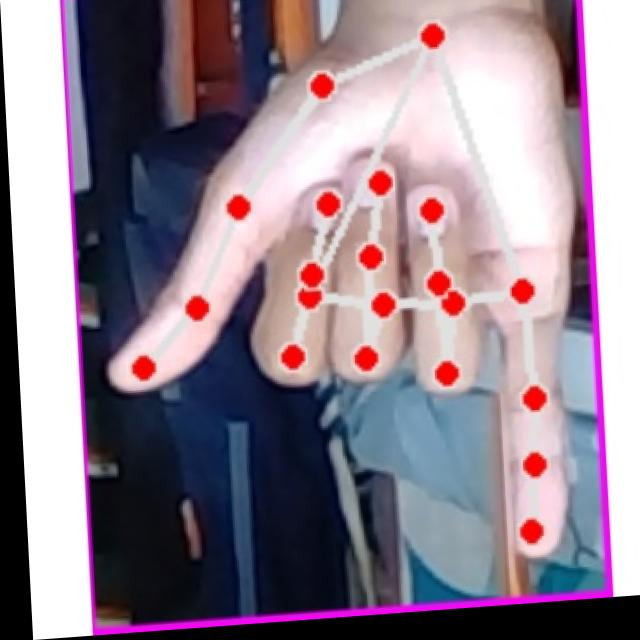Y: (92, 27, 589, 599)
